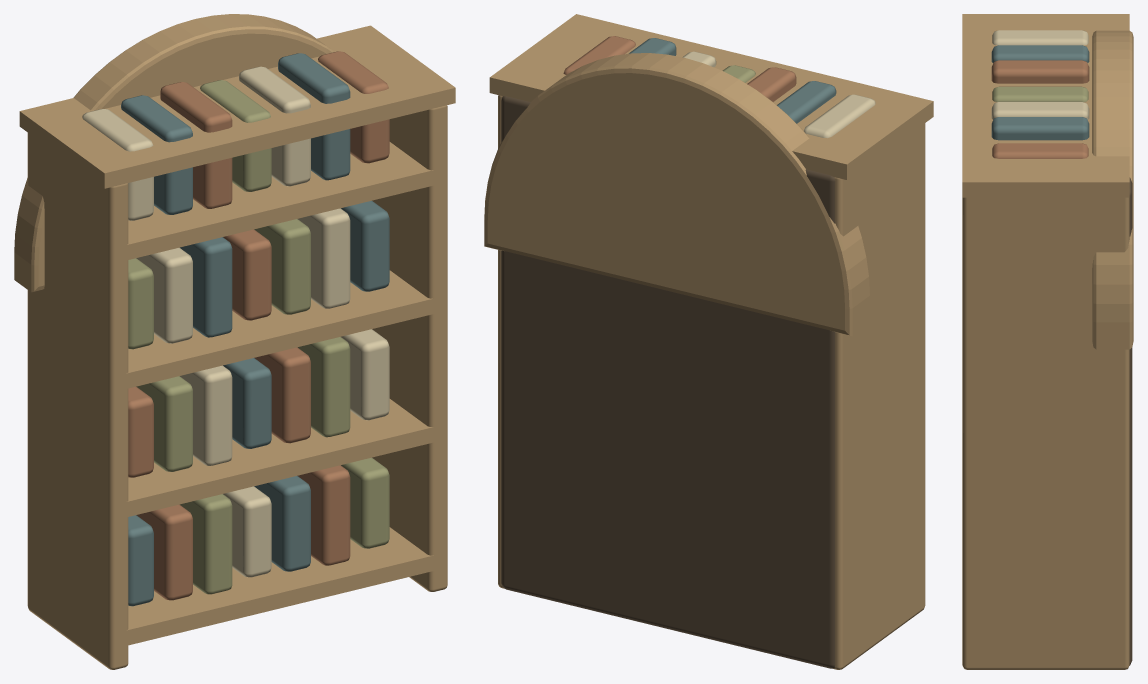
File: bookcase.glb
3 renders of one model, left to right at view 1: azimuth 30°, elevation 25°; view 2: azimuth 150°, elevation 25°; view 3: azimuth 270°, elevation 25°, orthographic. The views are drawn at different scales.
Size of the model in its own units: 1.47 by 2.14 by 0.614.
